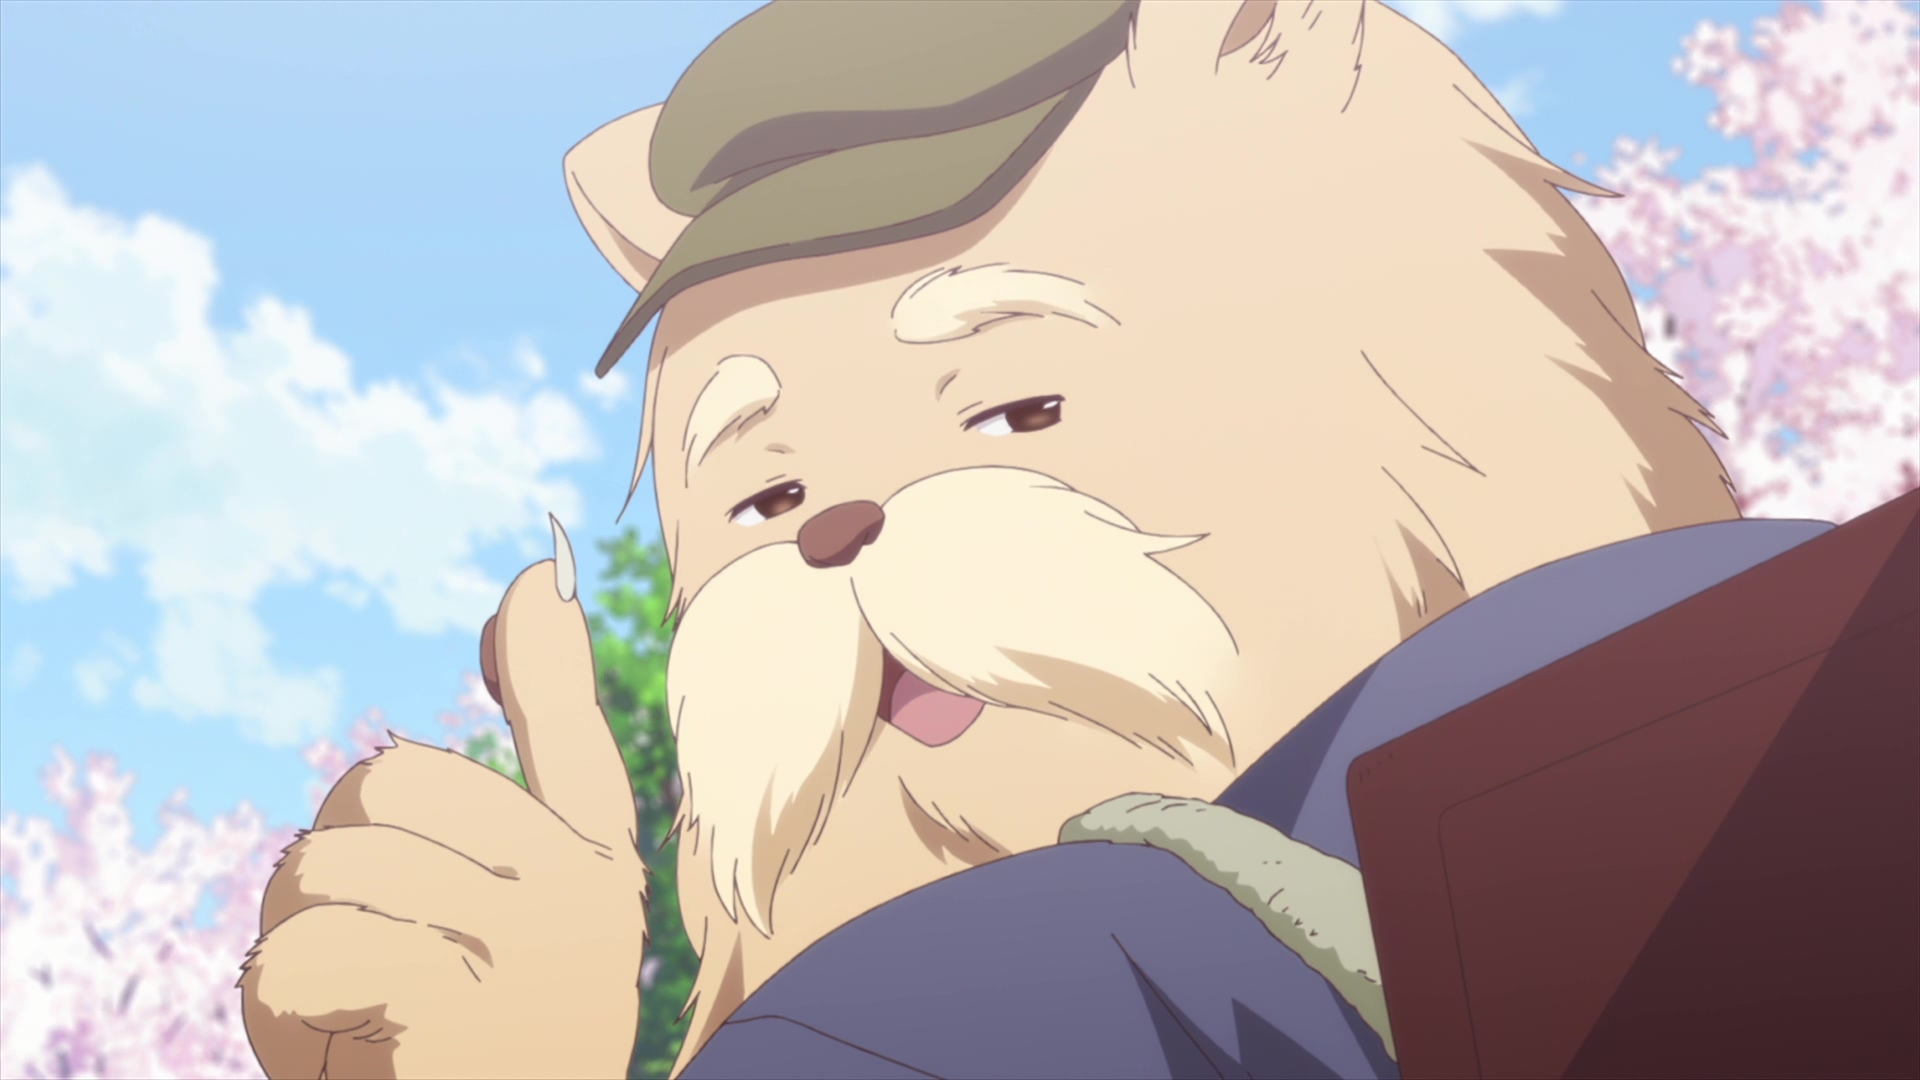药店老板: (233, 1, 1920, 1080)
